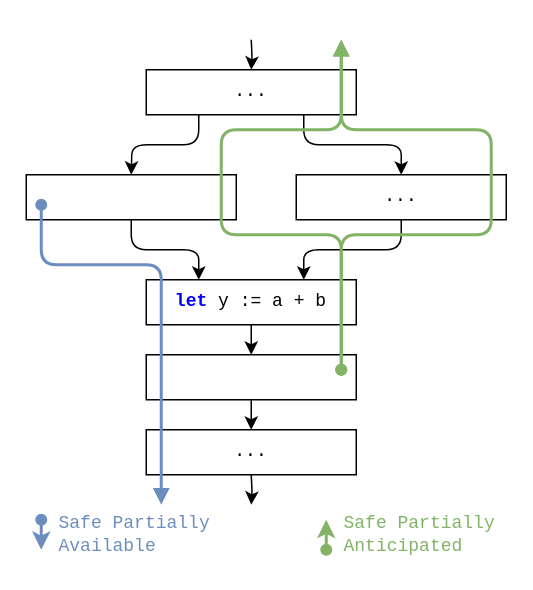
Image size: 533x590. Some labels were removed from this diagram. The centre of each missing label's shape, as x and y in pixels:
let x := a + b: point (130, 196)
let z := a + b: point (250, 376)
